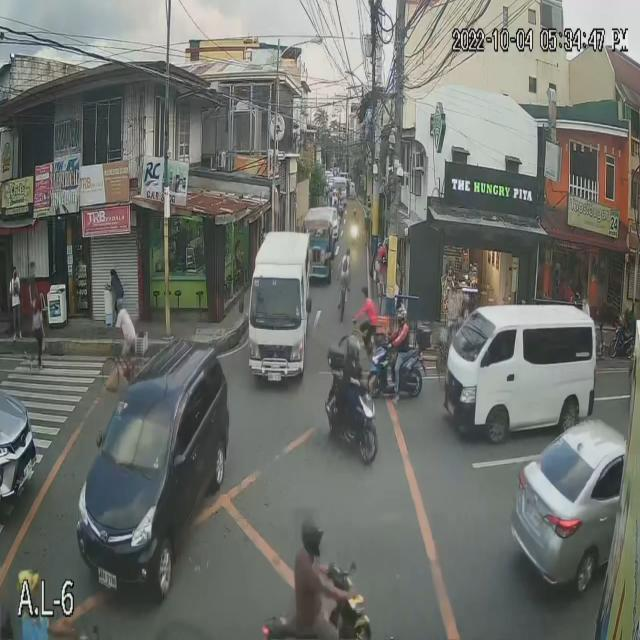full: (346, 335, 362, 362)
half: (398, 304, 408, 323)
